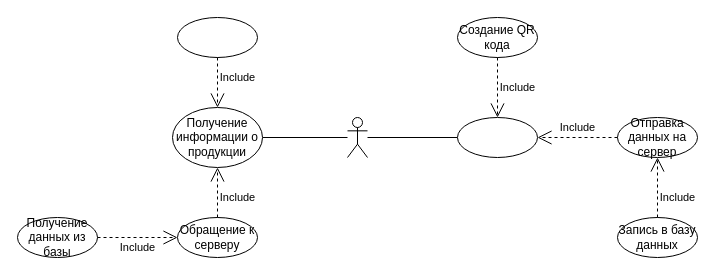
Image size: 715x276. Some labels were removed from this diagram. Here are the shapes that lost their labels. From the top down, the centre of each, then its label:
point (217, 37): Чтение QR кода
point (357, 137): Пользователь
point (497, 137): Маркировка продукции
